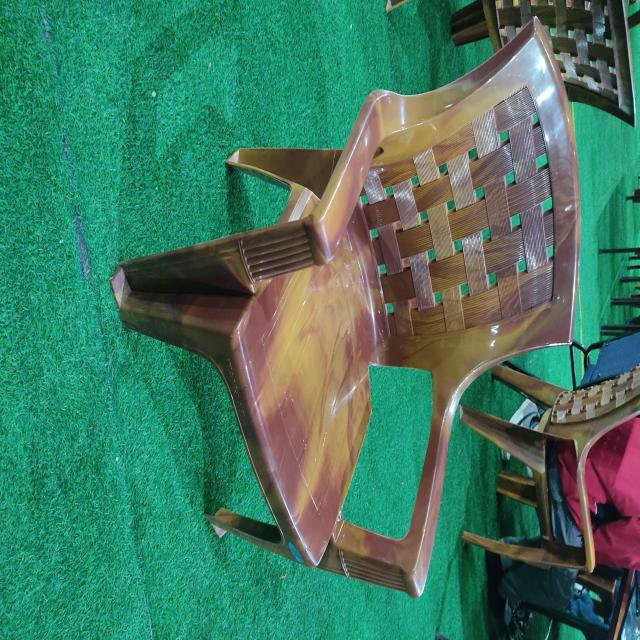Camer Stand: (109, 15, 582, 600)
